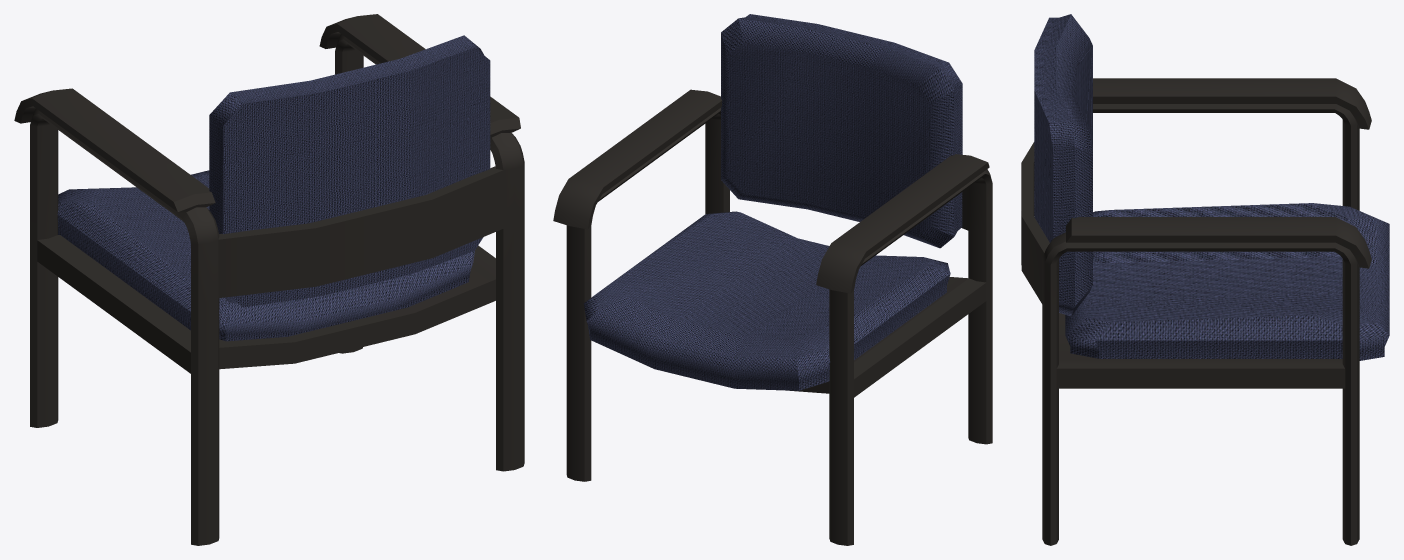
File: GYM_Chair_1.fbx
The picture shows the model from 3 angles, left to right: view 1: azimuth 30°, elevation 25°; view 2: azimuth 150°, elevation 25°; view 3: azimuth 270°, elevation 25°; orthographic projection. The views are drawn at different scales.
Visible parts, largest first — view 1: GYM_Chair_1; view 2: GYM_Chair_1; view 3: GYM_Chair_1.
Part boxes in pixels (<box>): GYM_Chair_1: <box>14,14,524,545</box>; GYM_Chair_1: <box>553,14,992,545</box>; GYM_Chair_1: <box>1021,14,1389,545</box>.
Size of the model in its own units: 1.04 by 1.24 by 1.03.
2 materials, 1 textured.
